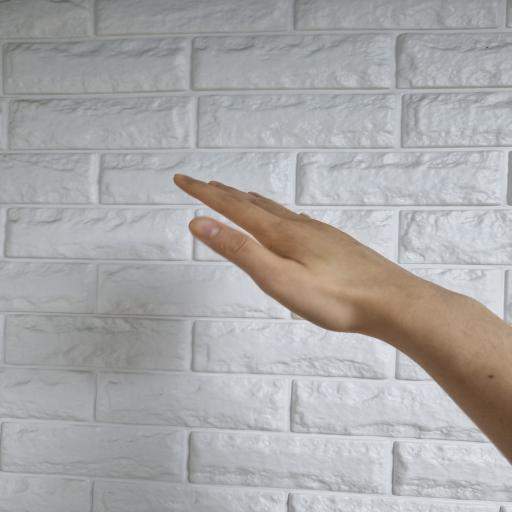Paper: (172, 172, 396, 333)
